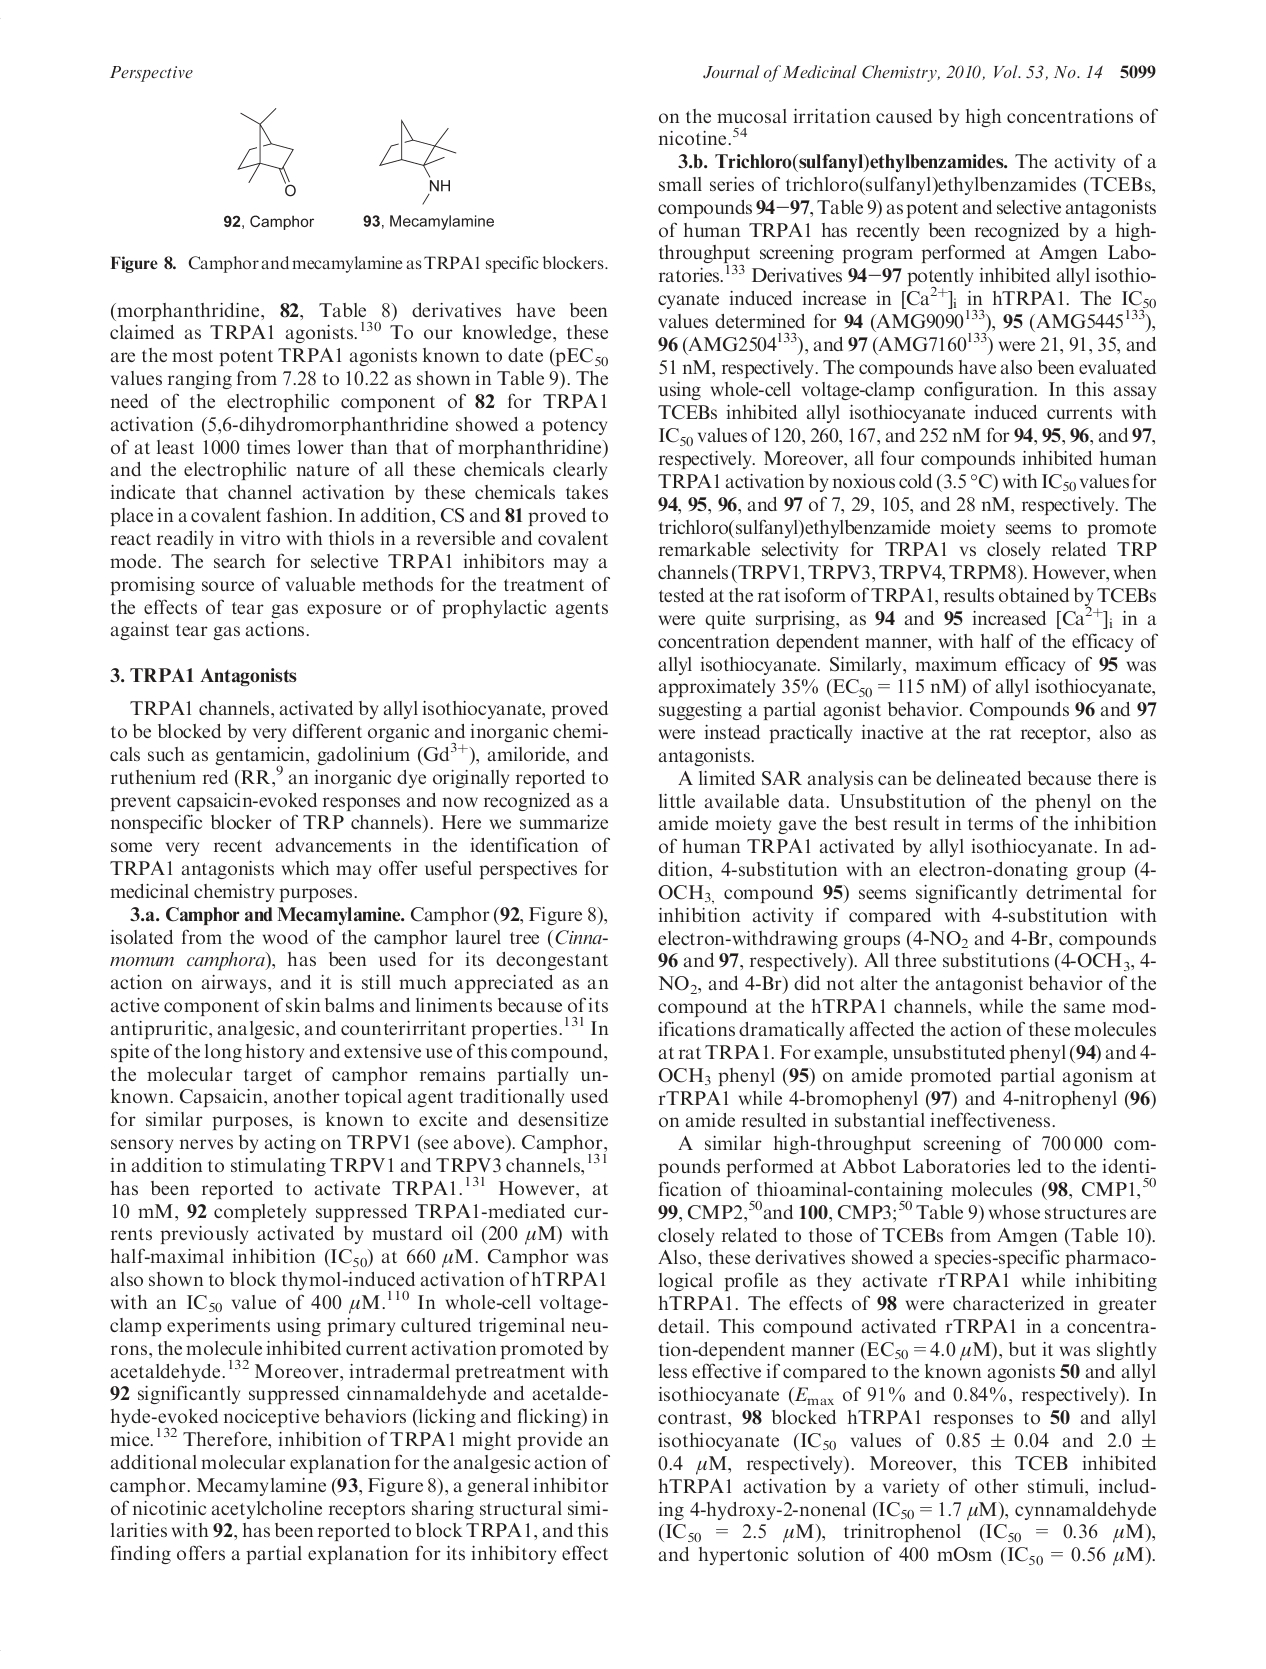exist_molecular: (378, 110, 477, 205), (234, 97, 320, 202)
